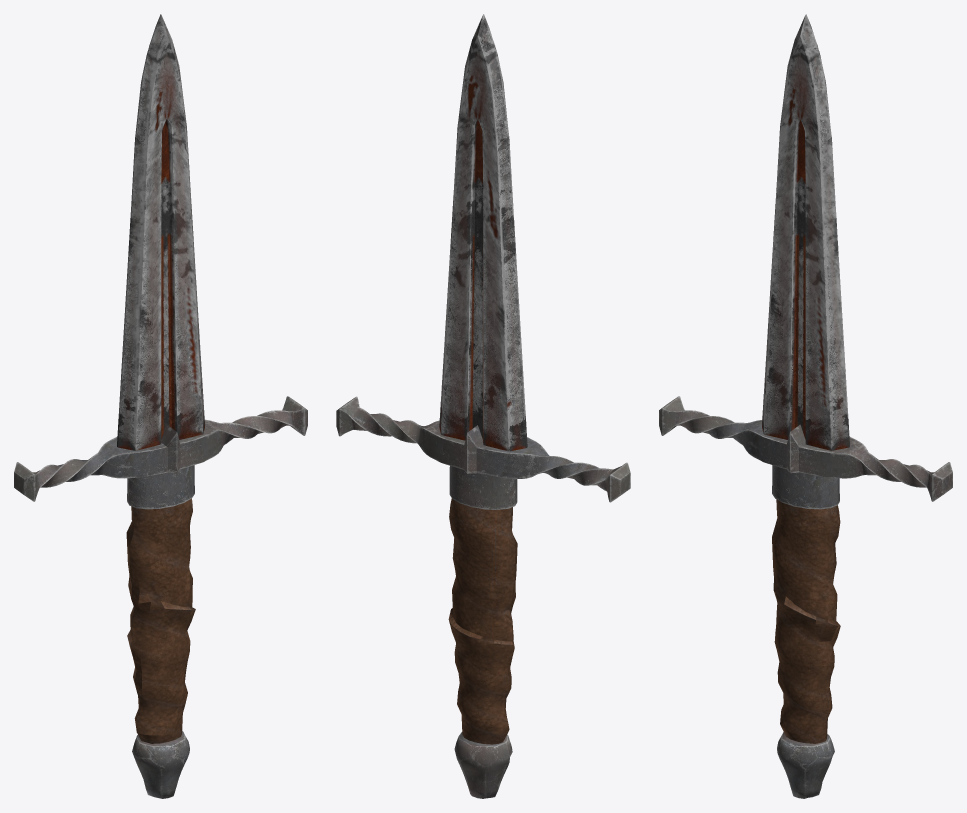
File: iron_dagger.glb
3 renders of one model, left to right at view 1: azimuth 30°, elevation 25°; view 2: azimuth 150°, elevation 25°; view 3: azimuth 330°, elevation 25°, orthographic.
Visible parts, largest first — view 1: Dagger; view 2: Dagger; view 3: Dagger.
Boxes of the visible parts, bbox=[...] form: Dagger: bbox=[14, 14, 307, 798]; Dagger: bbox=[336, 14, 630, 798]; Dagger: bbox=[659, 14, 952, 798].
Size of the model in its own units: 0.1865 by 0.49 by 0.0368.
Materials: 1 (1 with a texture image).
